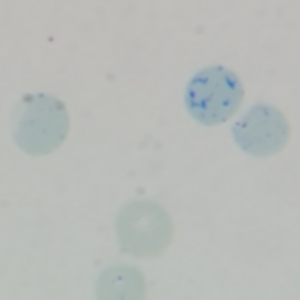aggregate reticulocyte: (182, 64, 245, 128)
erythrocyte: (111, 198, 173, 262)
punctate reticulocyte: (5, 91, 71, 159), (229, 102, 292, 157)
